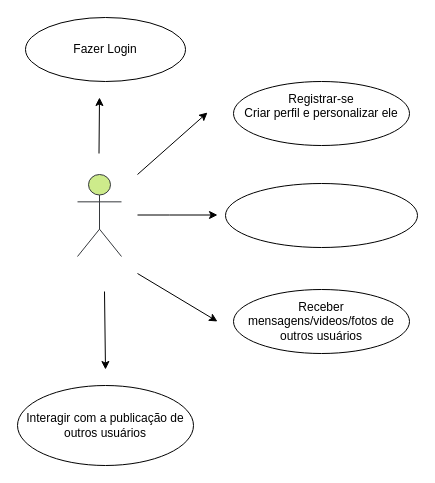
This 435x483 diagram has some shape labels left out. The centre of each missing label's shape, as x and y in pixels:
Enviar mensagens/vídeos/fotos para outros usuários: point 321,215
Usuario: point 99,215
